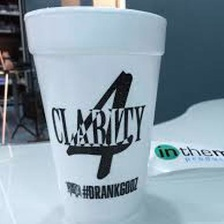paper_cup: (18, 3, 172, 224)
